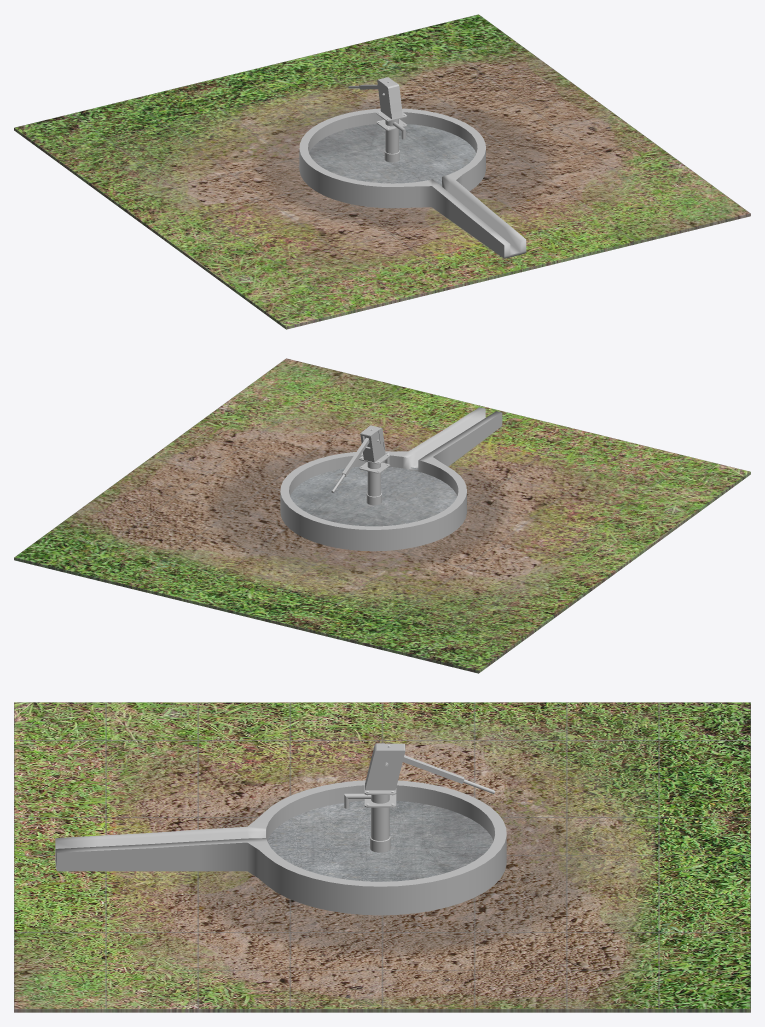
Rendered from M_borewell01.fbx.
3 renders of one model, top to bottom at view 1: azimuth 30°, elevation 25°; view 2: azimuth 150°, elevation 25°; view 3: azimuth 270°, elevation 25°, orthographic. The views are drawn at different scales.
Visible parts, largest first — view 1: pPlane2, pPipe1, pPlane1, pCube5, pCylinder1; view 2: pPlane2, pPipe1, pPlane1, pCube5, pCylinder1; view 3: pPlane2, pPipe1, pPlane1, pCube5, pCylinder1, polySurface23.
Part boxes in pixels (x1,y1,x2,y2): pPlane2: [14, 14, 750, 329]; pPipe1: [299, 108, 526, 258]; pPlane1: [309, 124, 476, 186]; pCube5: [377, 77, 402, 119]; pCylinder1: [384, 119, 399, 162]; pPlane2: [14, 358, 750, 673]; pPipe1: [280, 407, 502, 551]; pPlane1: [290, 466, 457, 526]; pCube5: [360, 425, 385, 462]; pCylinder1: [366, 462, 381, 505]; pPlane2: [14, 702, 750, 1012]; pPipe1: [55, 780, 506, 915]; pPlane1: [267, 801, 493, 881]; pCube5: [365, 743, 405, 790]; pCylinder1: [370, 795, 390, 852]; polySurface23: [403, 755, 495, 793].
Size of the model in its own units: 31.17 by 5.64 by 31.62.
